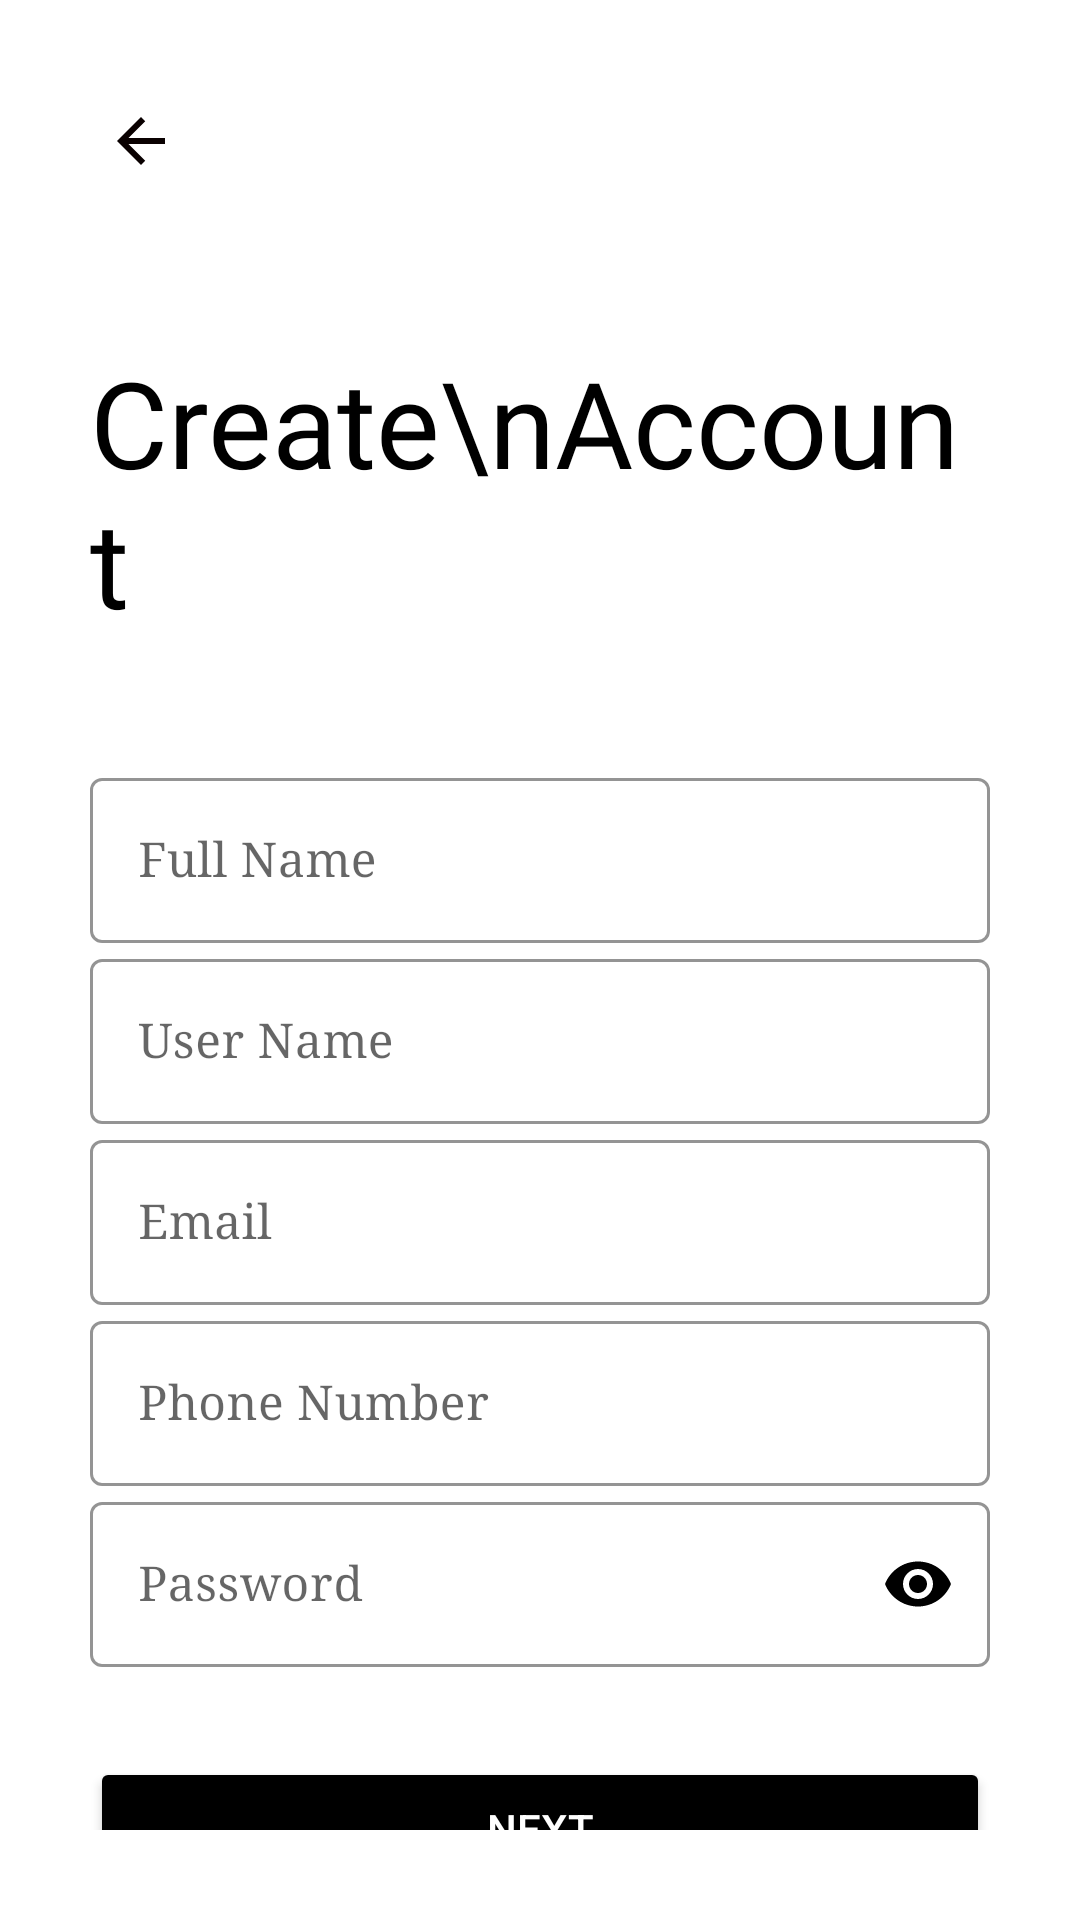

Where icons sit on this 1080px×1920px app screen, as region(x1, y1, x2, y2):
back: region(117, 117, 165, 165)
